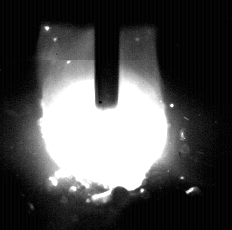arame: (95, 0, 121, 111)
poca: (37, 0, 171, 230)
